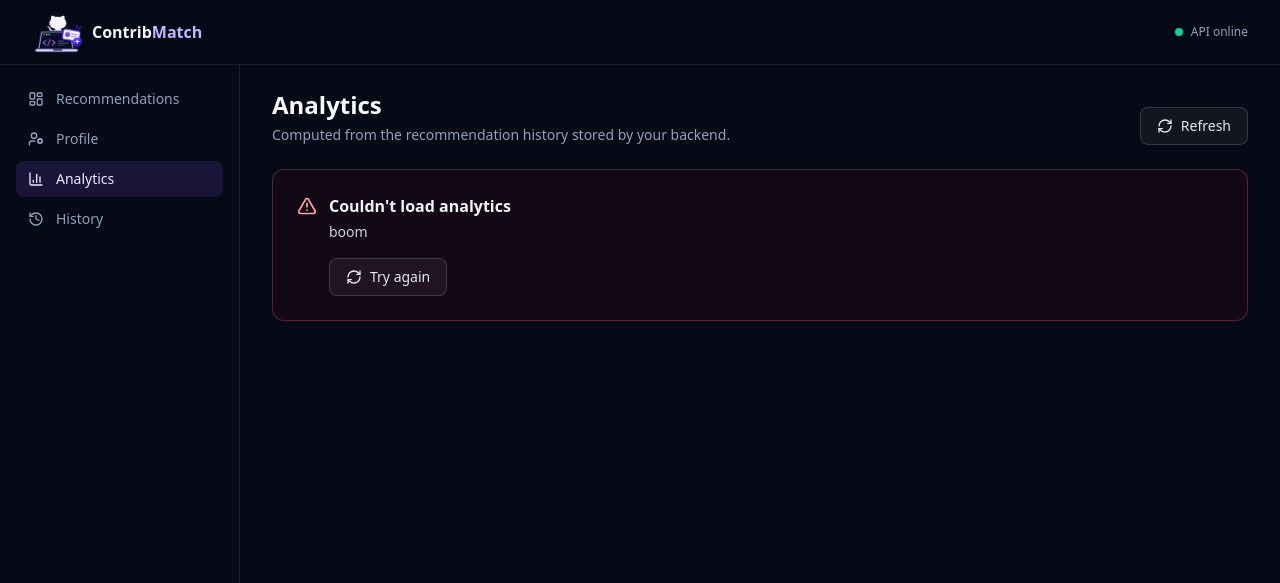
Test: Analytics › shows an error and retries
This screenshot has width=1280, height=583.
Expected: the message "Couldn't load analytics boom Try again" is shown, [272,169,1248,321]
Click the button "Try again".
click(388, 277)  # box [329,258,447,296]
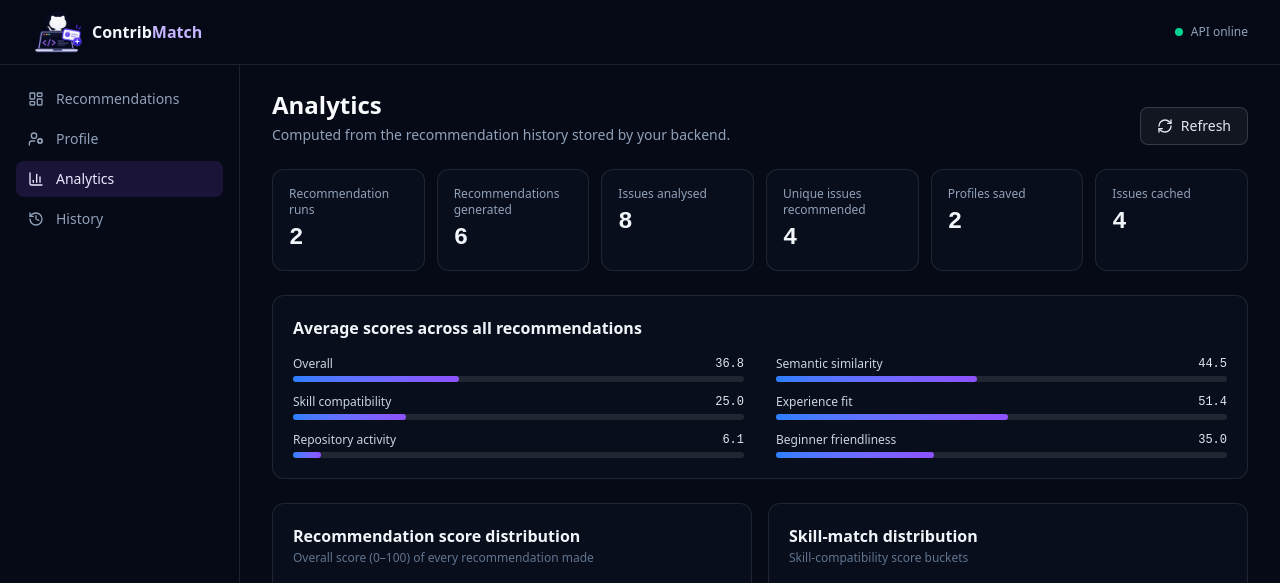
Now the text "Recommendation runs" is shown, box [289,185,389,218]
